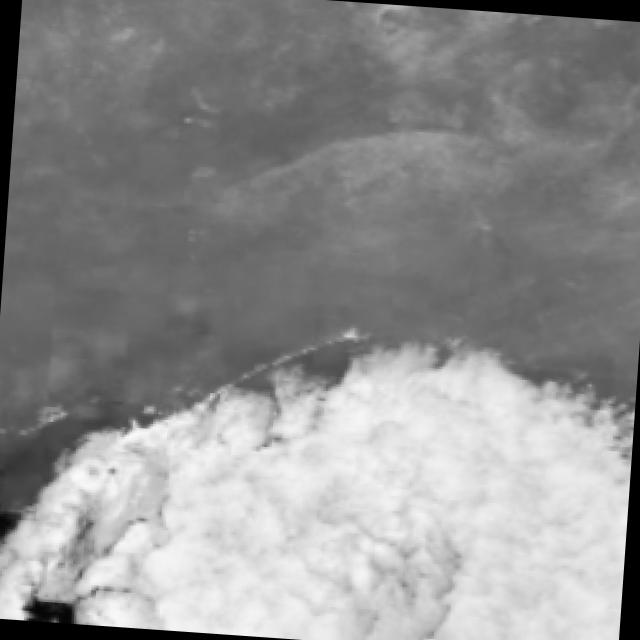CB: (322, 407, 558, 606), (397, 466, 624, 640), (162, 468, 366, 640)
